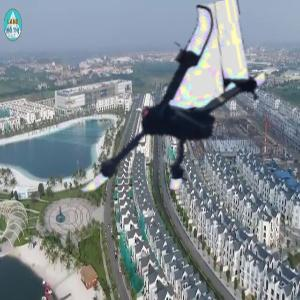drone: (62, 13, 274, 225)
